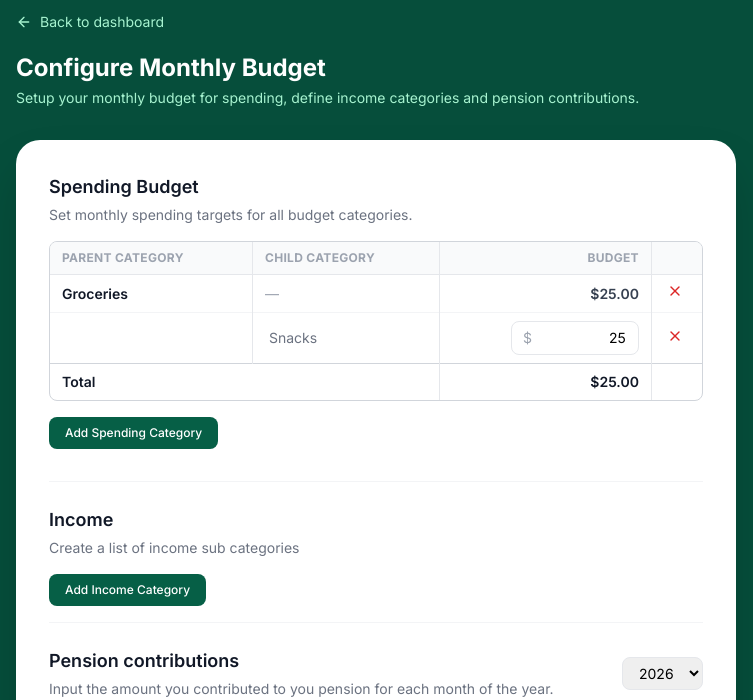
Test: BudgetSetupPage › deleting a child row removes it and updates the parent total, without removing the group
The image size is (753, 700).
Expected: the text "Snacks" is shown, [252,312,440,364]
Click the button named "delete snacks": (675, 336) [667,328,683,344]
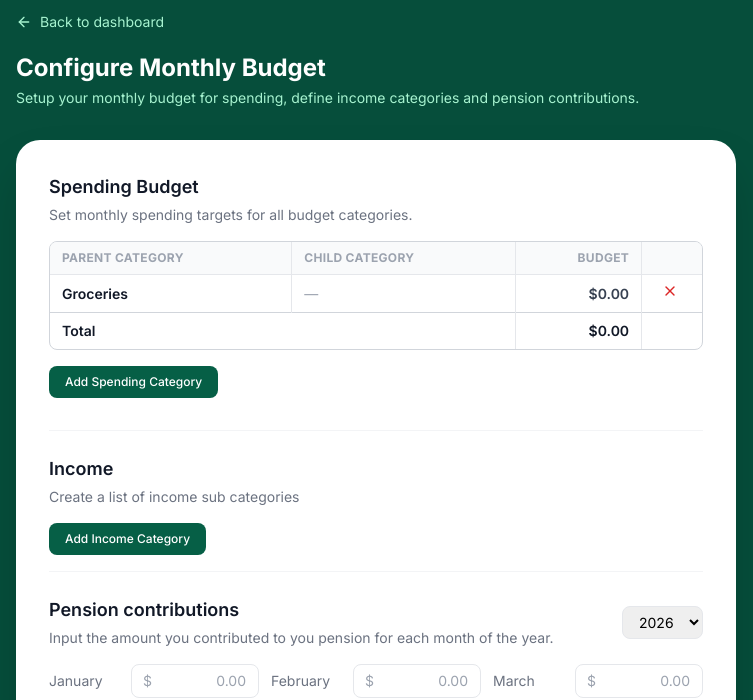
Expected: the text "Groceries" is shown, [50,274,292,312]
Result: the text "Snacks" is gone
Result: the text "$0.00" is shown 2 times at [515,274,642,312]; [515,312,642,349]
